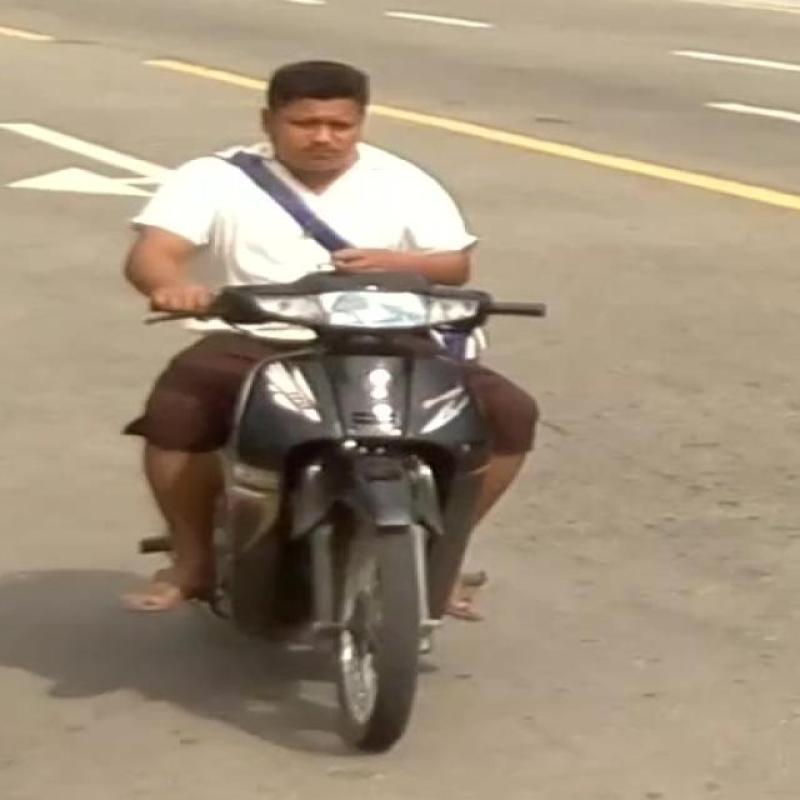nohelmet: (244, 45, 427, 175)
